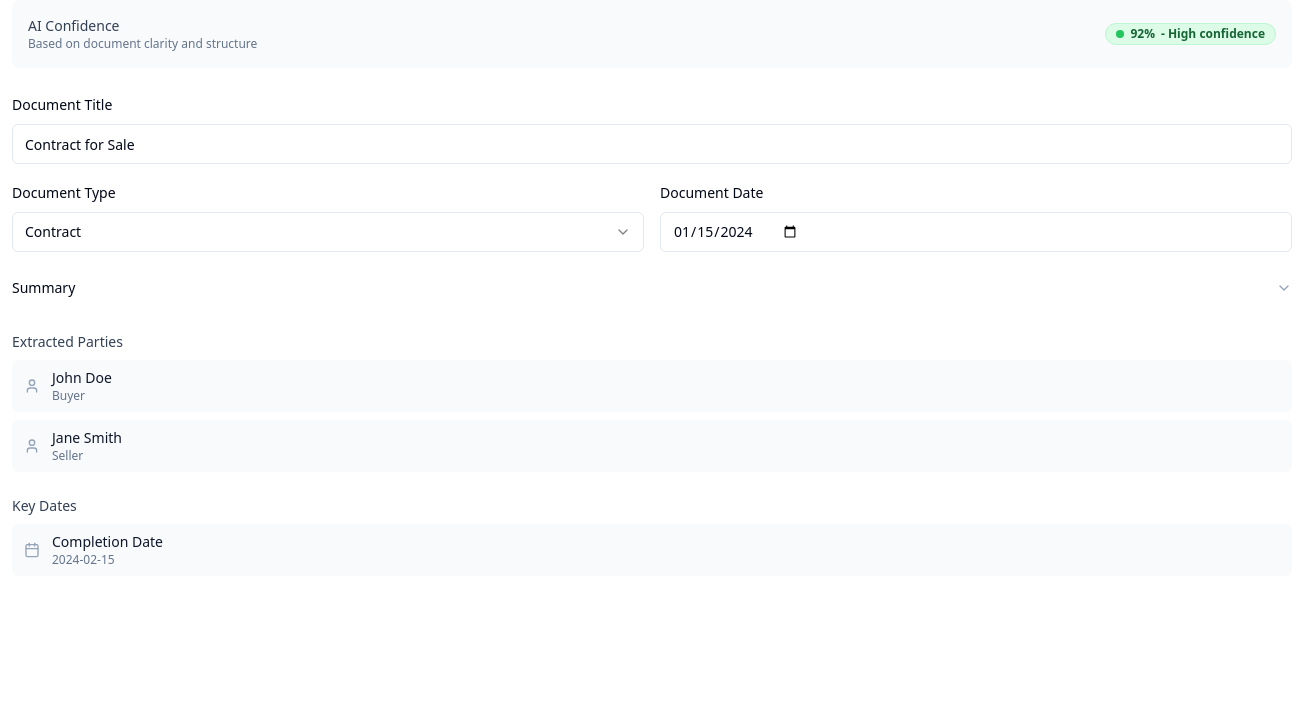
AnalysisReview › toggles summary visibility
The image size is (1304, 720).
# Click to expand
Click the button "Summary". click: (44,288)
box: [12,268,1292,308]
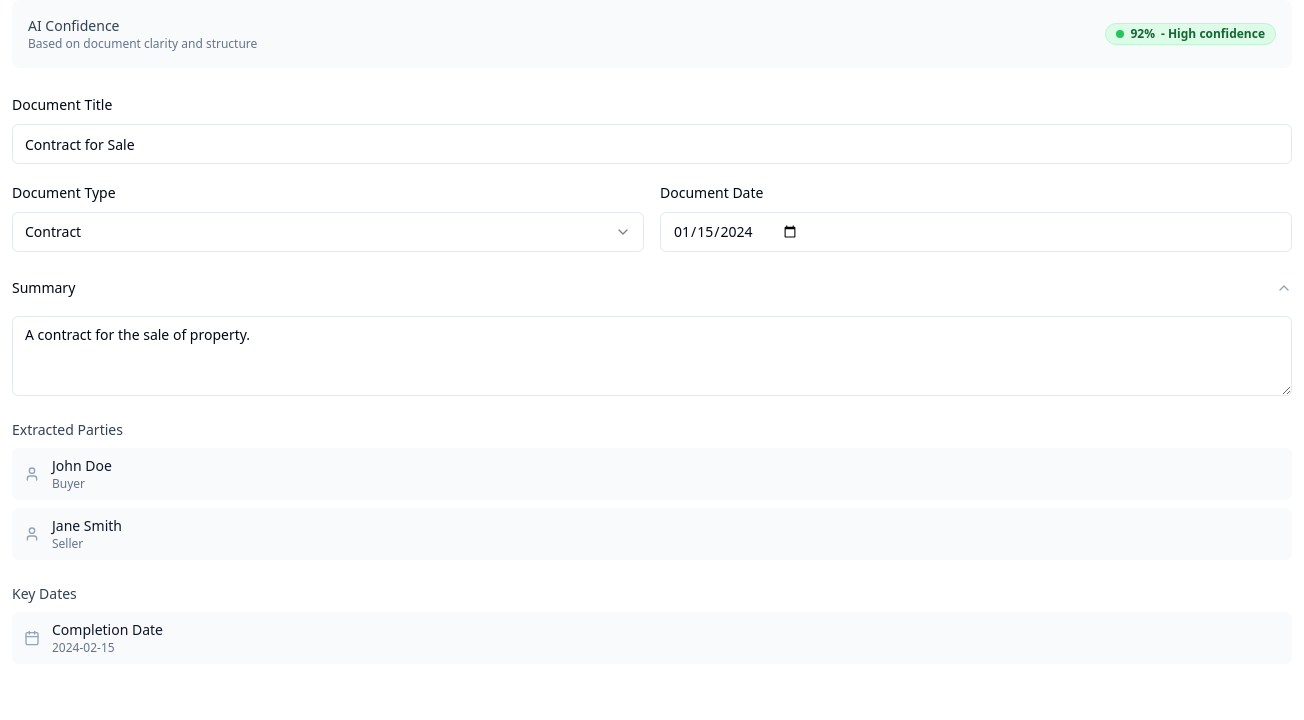
Expected: the text box with placeholder "Document summary" holds "A contract for the sale of property.", [12,316,1292,396]
